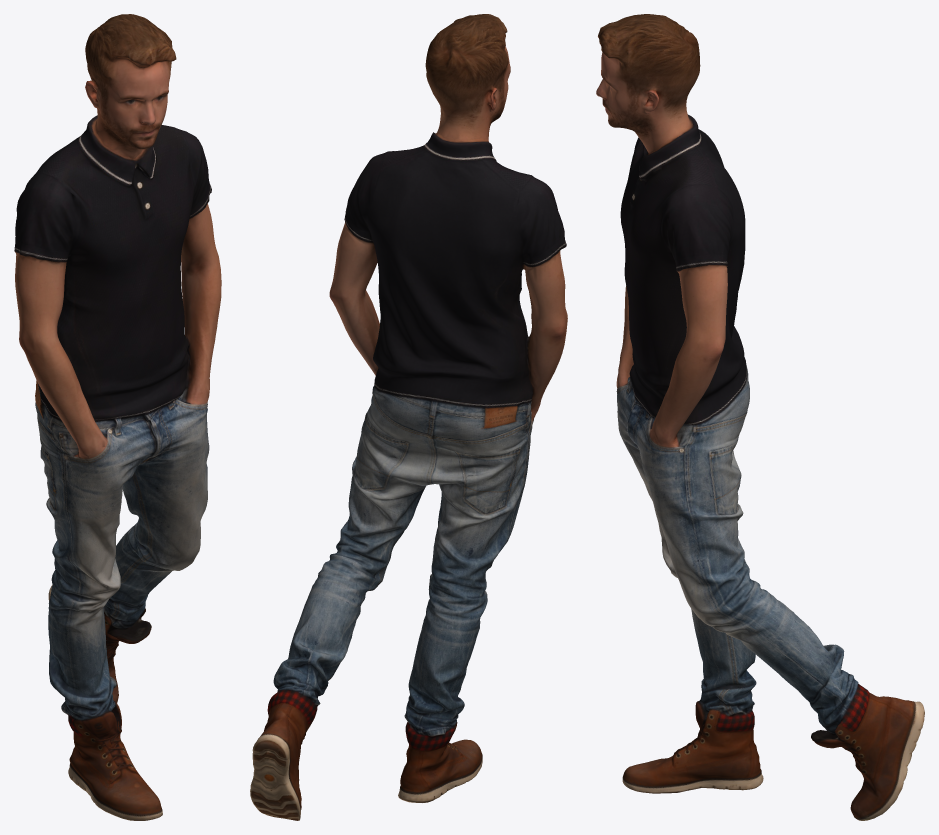
File: 00079_Nash002_Basics_Free.obj
3 views of the same model, side by side, from view 1: azimuth 30°, elevation 25°; view 2: azimuth 150°, elevation 25°; view 3: azimuth 270°, elevation 25° (orthographic). The views are drawn at different scales.
Visible parts, largest first — view 1: 00079_Nash002_Basics_Free; view 2: 00079_Nash002_Basics_Free; view 3: 00079_Nash002_Basics_Free.
Part boxes in pixels (left/top/right/bottom): 00079_Nash002_Basics_Free: left=14, top=14, right=221, bottom=820; 00079_Nash002_Basics_Free: left=250, top=14, right=567, bottom=820; 00079_Nash002_Basics_Free: left=596, top=14, right=924, bottom=820.
Size of the model in its own units: 20.15 by 69.12 by 26.95.
1 material, 1 textured.
